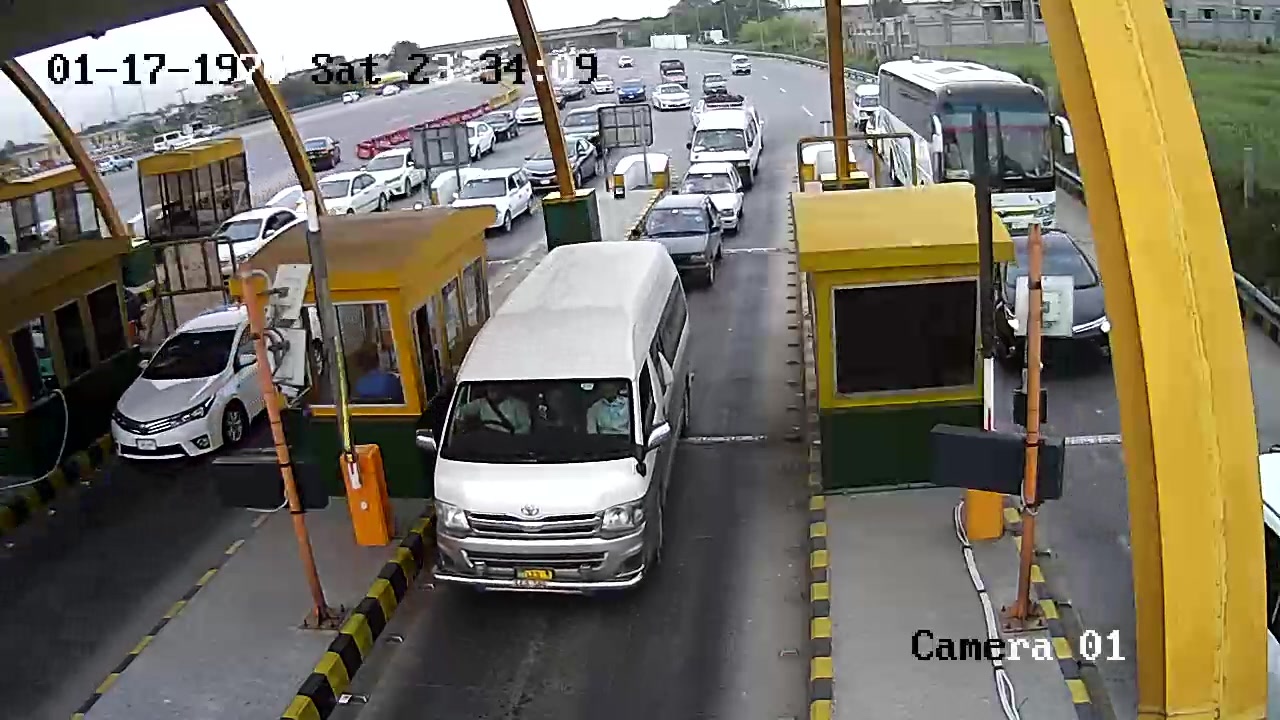F2: (427, 240, 699, 608)
